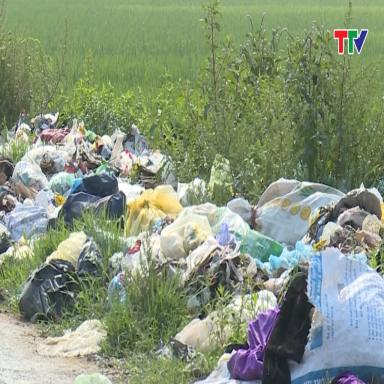plasticbag: (14, 113, 384, 383), (0, 111, 195, 247), (254, 192, 382, 383)
